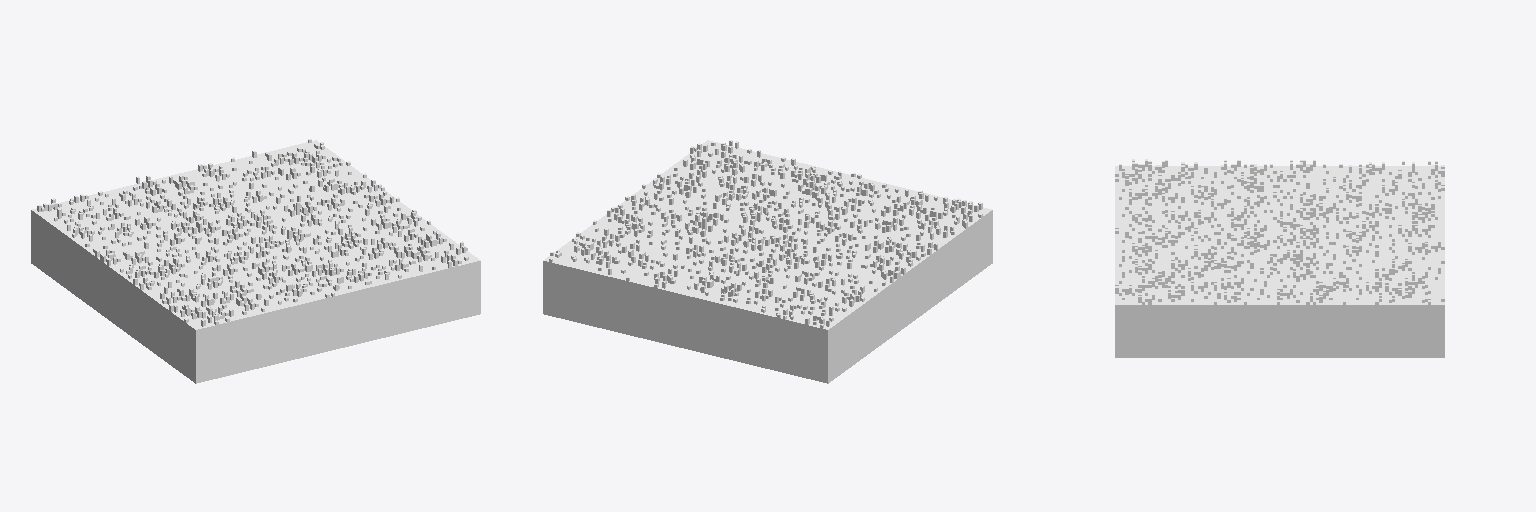
Rendered from orange-100x100-grass-lush-3.obj.
The picture shows the model from 3 angles: view 1: azimuth 30°, elevation 25°; view 2: azimuth 150°, elevation 25°; view 3: azimuth 270°, elevation 25°; orthographic projection.
Parts seen in each view (by area): view 1: orange-100x100-grass-lush-3; view 2: orange-100x100-grass-lush-3; view 3: orange-100x100-grass-lush-3.
Boxes of the visible parts, x1=… form: orange-100x100-grass-lush-3: x1=31, y1=139, x2=480, y2=383; orange-100x100-grass-lush-3: x1=543, y1=140, x2=992, y2=383; orange-100x100-grass-lush-3: x1=1115, y1=159, x2=1444, y2=357.
Bounding box in the file's own units: 100 × 22 × 100.